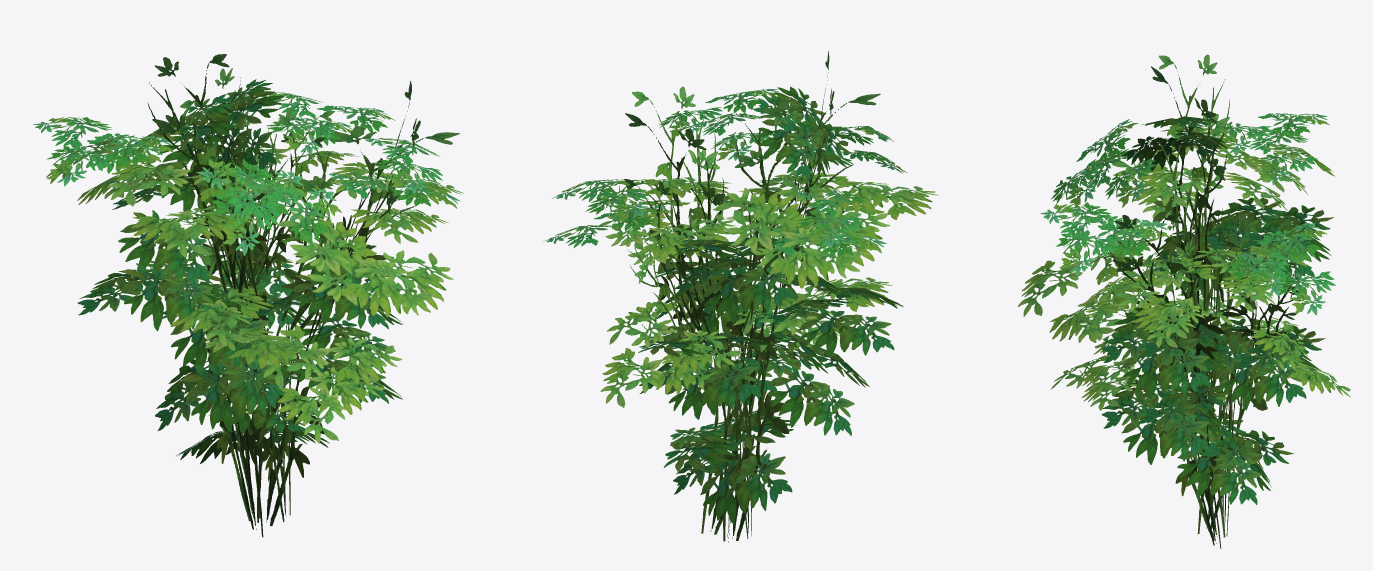
The model's file is Scene_guanmu_010.FBX.
3 renders of one model, left to right at view 1: azimuth 30°, elevation 25°; view 2: azimuth 150°, elevation 25°; view 3: azimuth 270°, elevation 25°, orthographic. The views are drawn at different scales.
Parts seen in each view (by area): view 1: Scene_guanmu_010; view 2: Scene_guanmu_010; view 3: Scene_guanmu_010.
Part boxes in pixels (left/top/right/bottom): Scene_guanmu_010: left=33, top=54, right=463, bottom=537; Scene_guanmu_010: left=543, top=51, right=938, bottom=542; Scene_guanmu_010: left=1018, top=54, right=1350, bottom=548.
Bounding box in the file's own units: 274 × 376 × 251.
